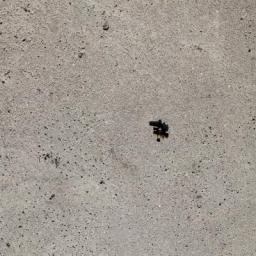FOD: (148, 118, 173, 145)
